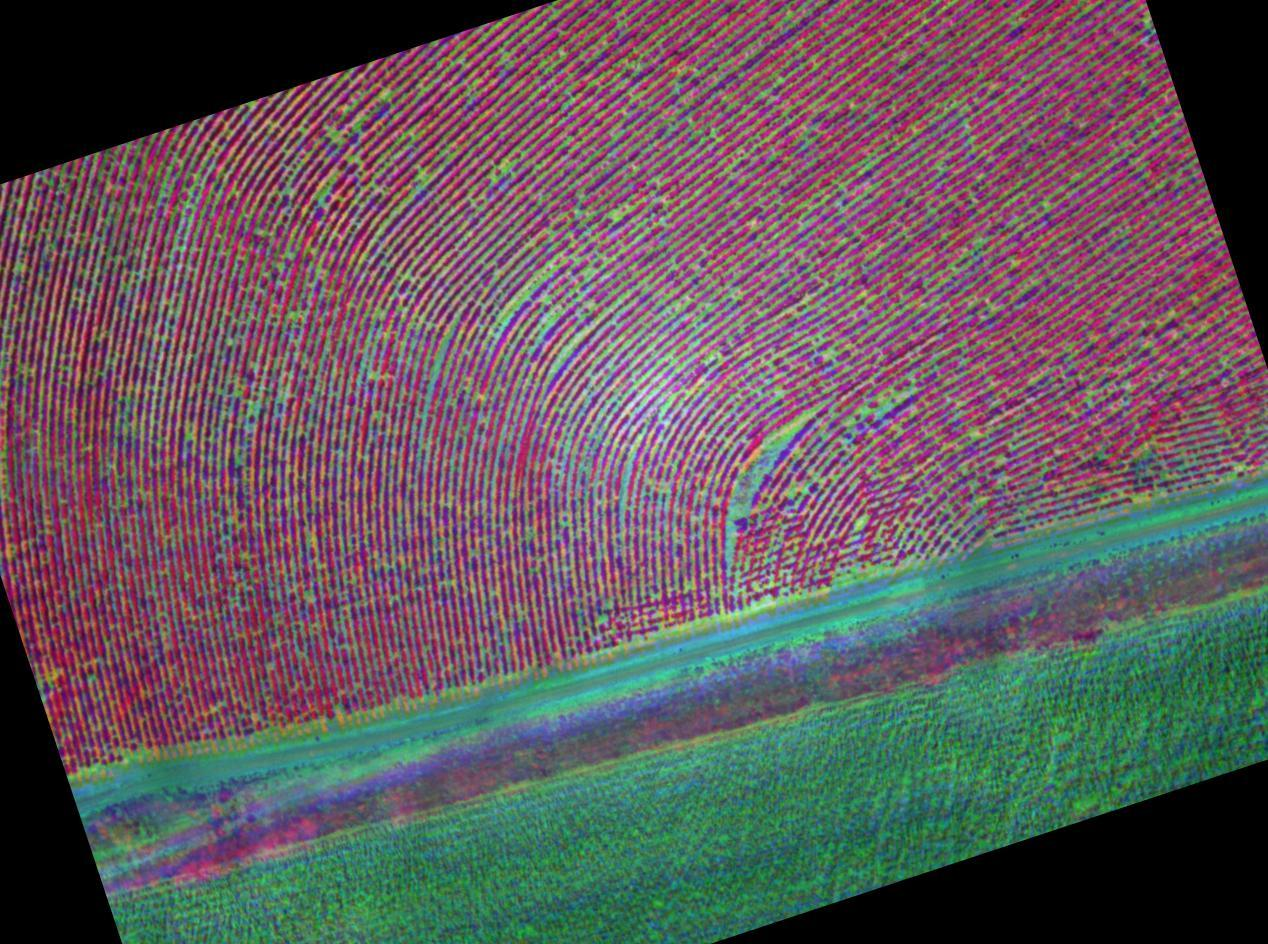dc: (713, 398, 826, 549), (146, 178, 267, 305), (313, 88, 433, 207), (481, 248, 602, 353), (83, 375, 262, 444), (643, 270, 736, 370)
